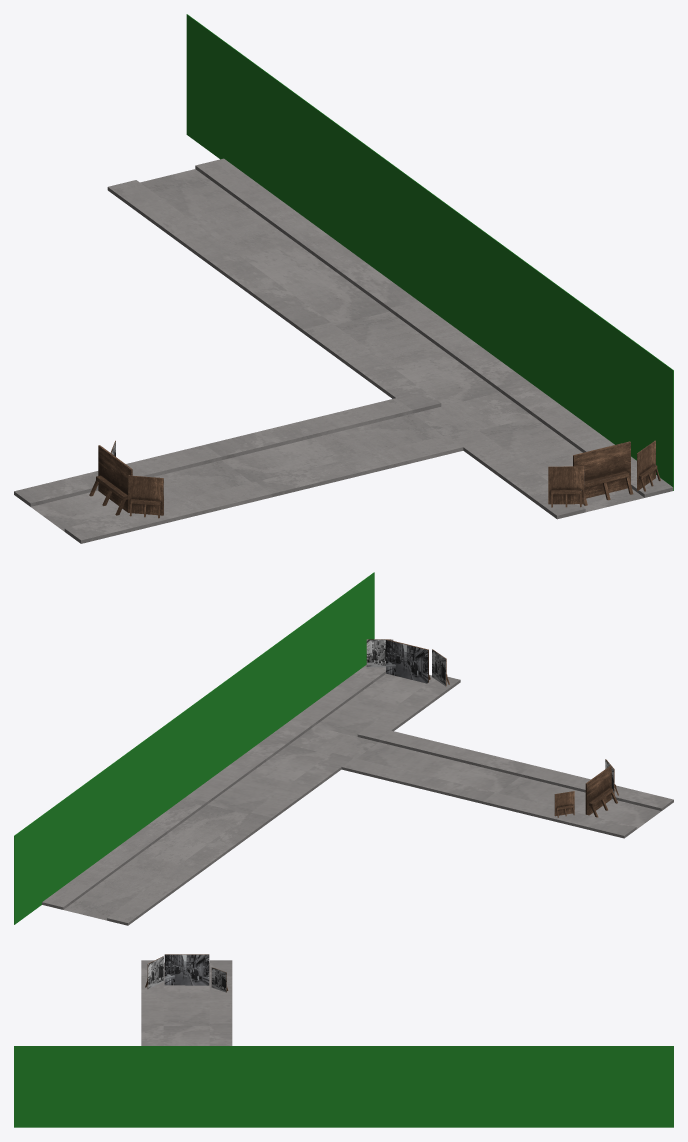
File: CALLES.fbx
3 renders of one model, top to bottom at view 1: azimuth 30°, elevation 25°; view 2: azimuth 150°, elevation 25°; view 3: azimuth 270°, elevation 25°, orthographic. The views are drawn at different scales.
Parts seen in each view (by area): view 1: Plane.022, Plane.019, Plane.073, Plane.023, Plane.020, Plane.021, Plane.024, Cube.035, Cube.039, Cube.038, Cube.041, Cube.037; view 2: Plane.022, Plane.019, Plane.073, Plane.023, Plane.021, Plane.020, Plane.024, Cube.035, Cube.039, Cube.037; view 3: Plane.022, Plane.020, Plane.073, Cube.039, Cube.041, Cube.040.
Boxes of the visible parts, x1,y1,x2,y2 form: Plane.022: (186, 14, 673, 490); Plane.019: (107, 158, 417, 332); Plane.073: (205, 398, 463, 497); Plane.023: (302, 301, 528, 413); Plane.020: (14, 445, 272, 543); Plane.021: (447, 407, 673, 519); Plane.024: (413, 382, 562, 435); Cube.035: (573, 441, 633, 505); Cube.039: (89, 445, 132, 515); Cube.038: (548, 466, 584, 507); Cube.041: (128, 475, 163, 518); Cube.037: (637, 440, 660, 491); Plane.022: (14, 572, 374, 924); Plane.019: (42, 797, 271, 925); Plane.073: (341, 730, 532, 803); Plane.023: (186, 737, 353, 819); Plane.021: (293, 665, 460, 741); Plane.020: (483, 765, 673, 838); Plane.024: (268, 718, 378, 758); Cube.035: (386, 639, 430, 683); Cube.039: (585, 765, 617, 817); Cube.037: (366, 639, 393, 667); Plane.022: (14, 1046, 673, 1127); Plane.020: (141, 960, 232, 1025); Plane.073: (141, 1023, 232, 1045); Cube.039: (164, 954, 209, 985); Cube.041: (145, 956, 163, 989); Cube.040: (211, 967, 228, 992).
Bounding box in the file's own units: 20701 × 4808 × 34978.
Materials: 7 (7 with a texture image).
